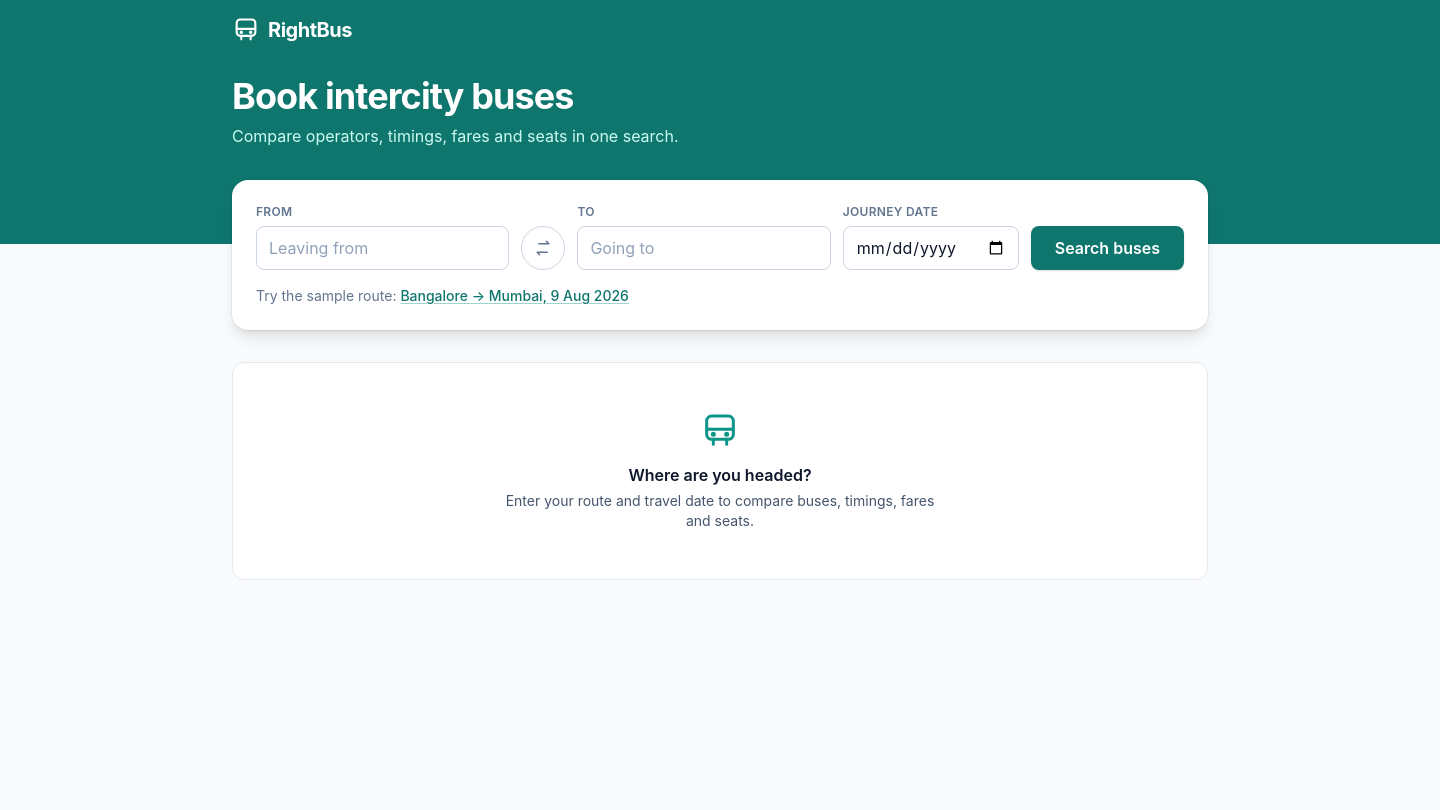
Test: bus search page › explains when no buses run on the route
The image size is (1440, 810).
In the field labelled "From": (383, 248) [256,226,509,270], type "Bangalore"
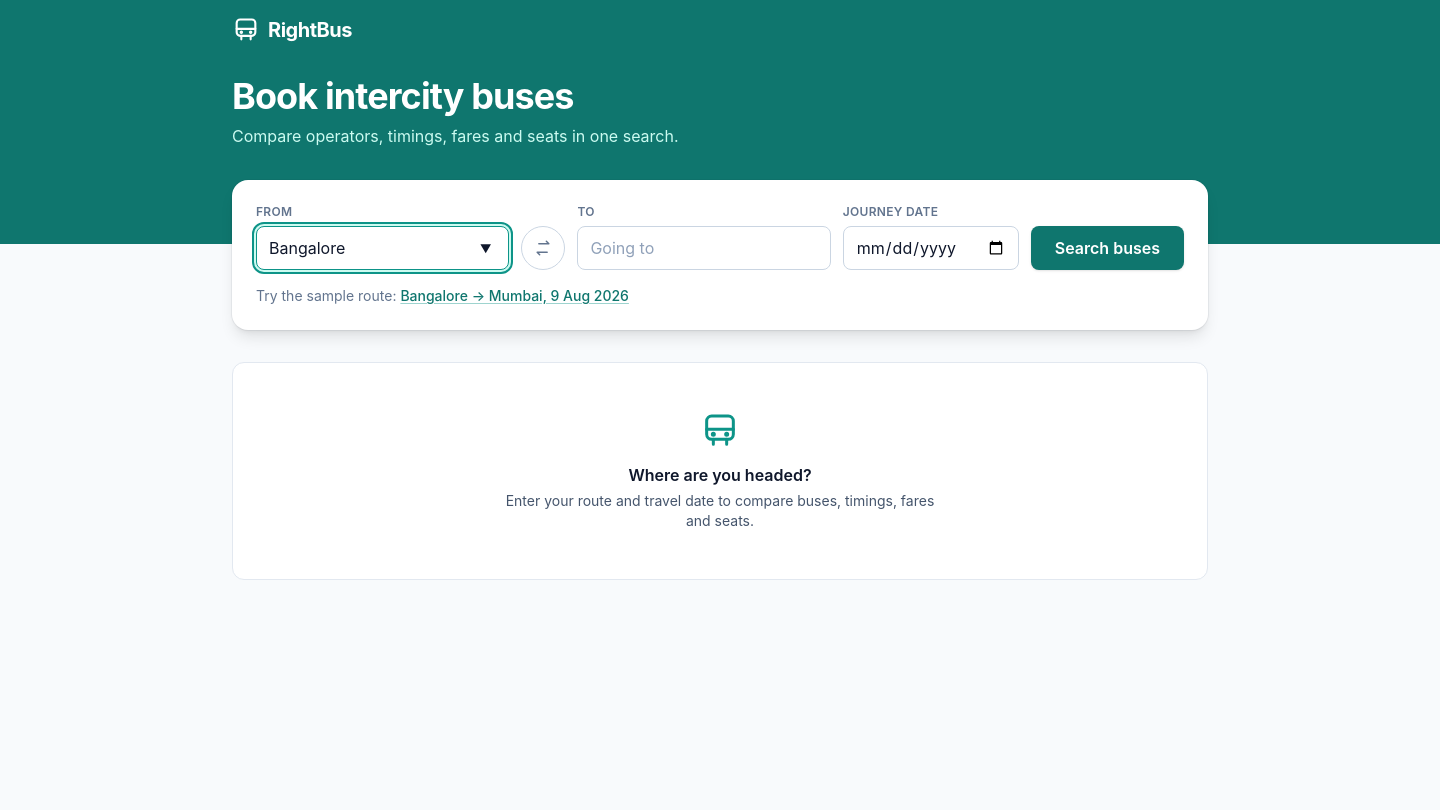
In the field labelled "To": (704, 248) [577,226,831,270], type "Delhi"
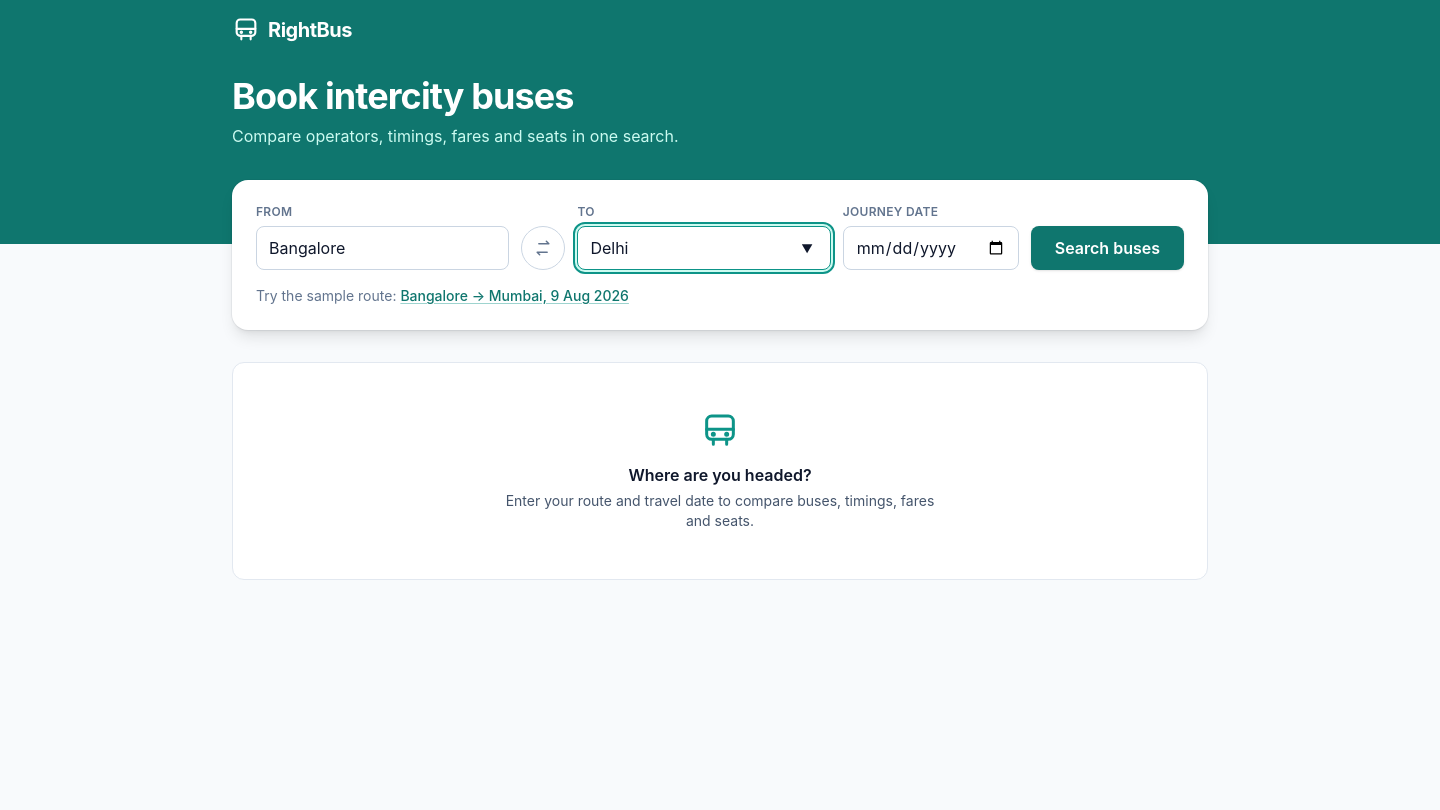
In the date field labelled "Journey date": (931, 248) [843,226,1019,270], type "2026-08-09"
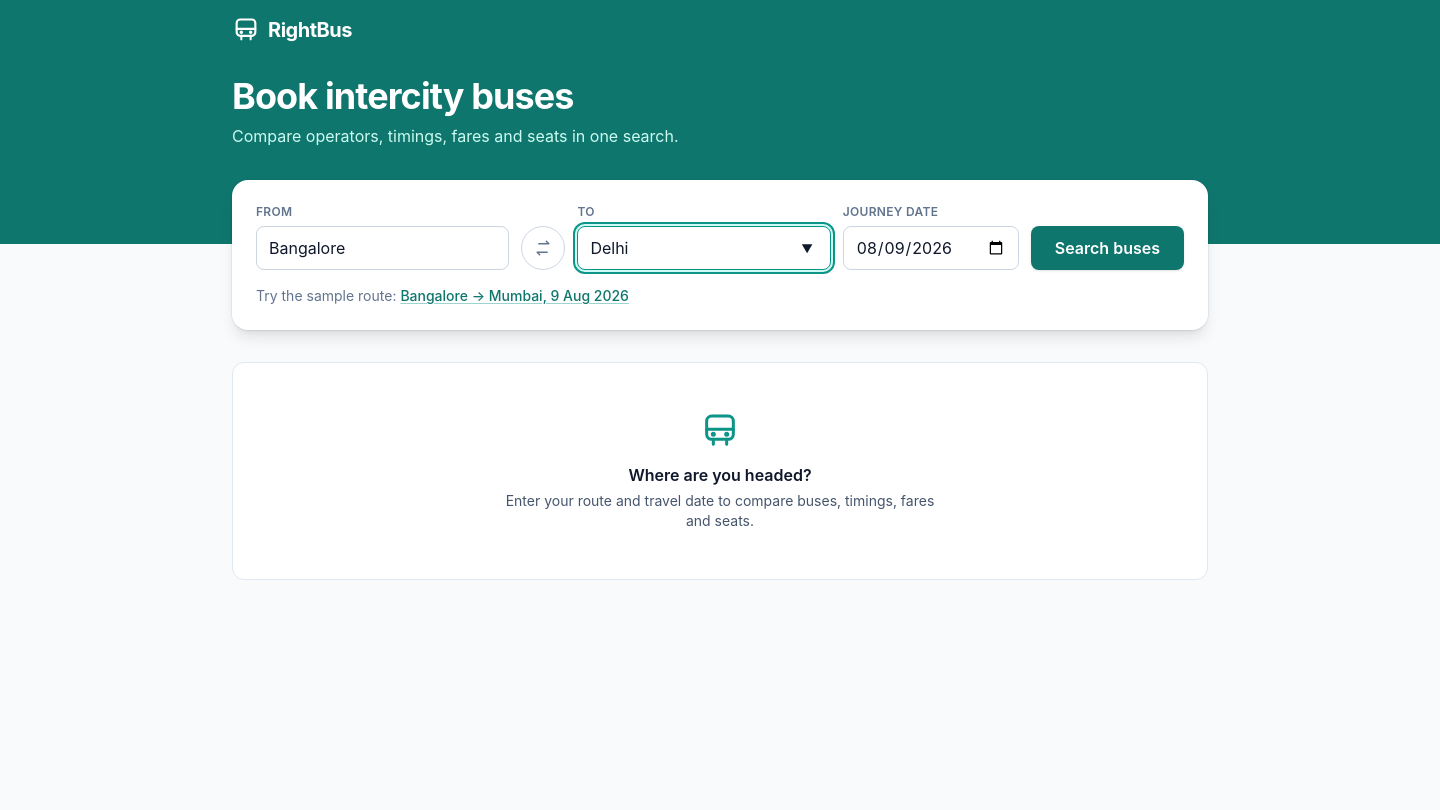
Click the button "Search buses": (1107, 248) [1031,226,1184,270]
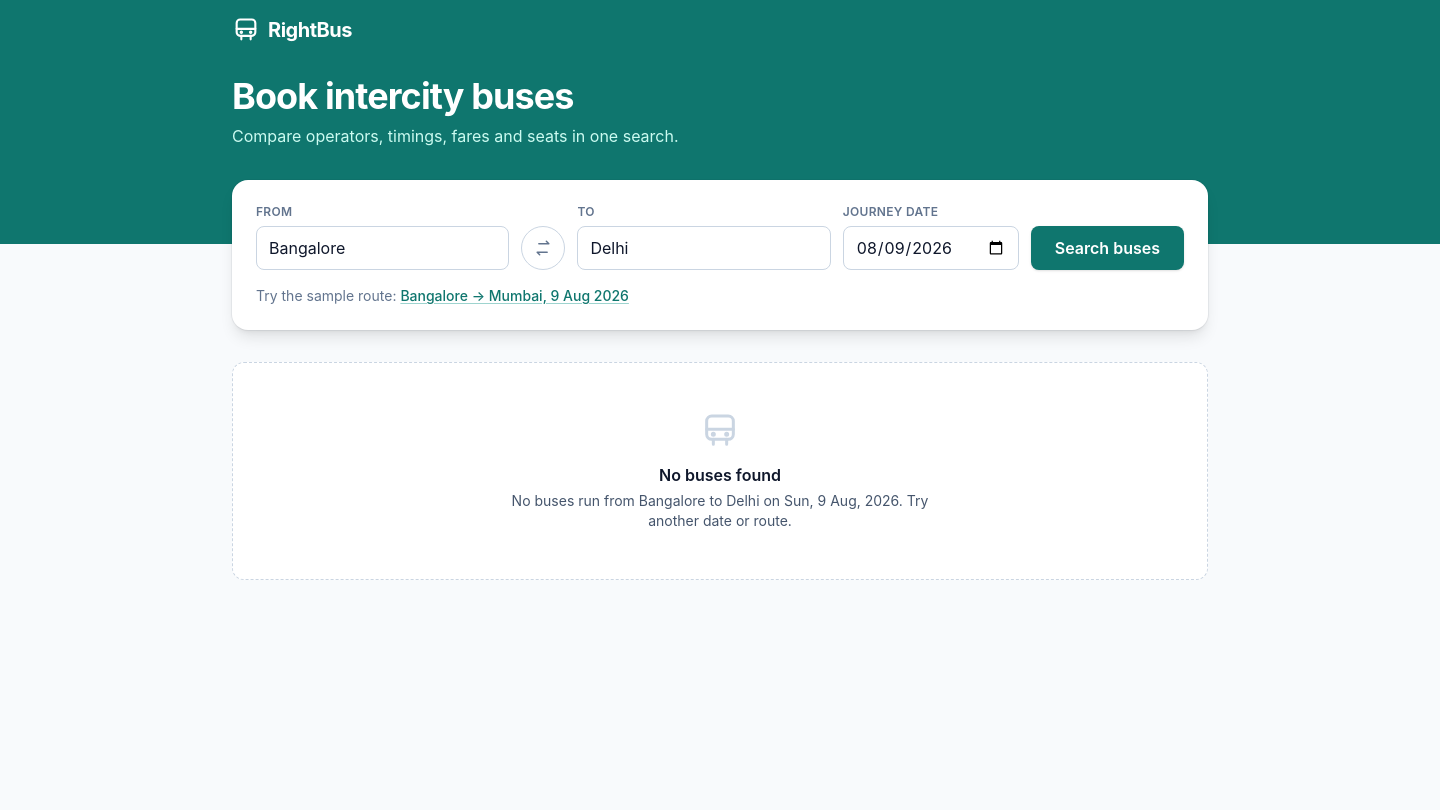
Expected: the heading "No buses found" is shown, [659,465,781,485]
Expected: the text "No buses run from Bangalore to Delhi on Sun, 9 Aug, 2026" is shown, [512,492,928,529]
